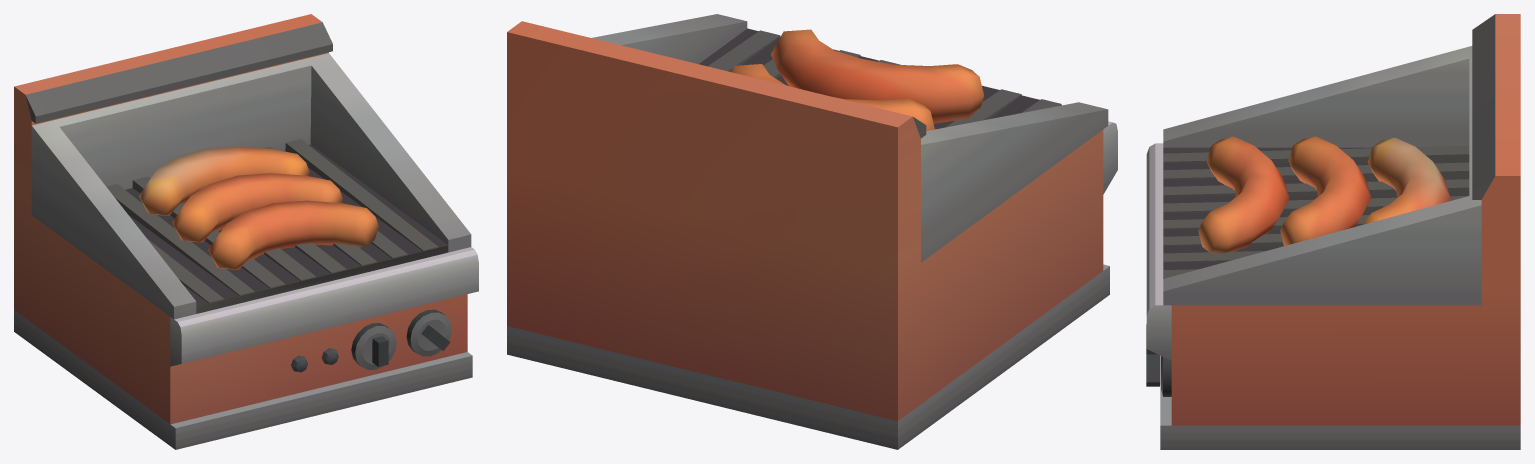
Rendered from Rig_K_32.fbx.
3 renders of one model, left to right at view 1: azimuth 30°, elevation 25°; view 2: azimuth 150°, elevation 25°; view 3: azimuth 270°, elevation 25°, orthographic. The views are drawn at different scales.
Parts seen in each view (by area): view 1: K32; view 2: K32; view 3: K32.
Boxes of the visible parts, x1,y1,x2,y2 form: K32: (14,14,478,449); K32: (507,14,1117,449); K32: (1146,14,1520,449).
Bounding box in the file's own units: 66.98 × 52.82 × 65.42.
